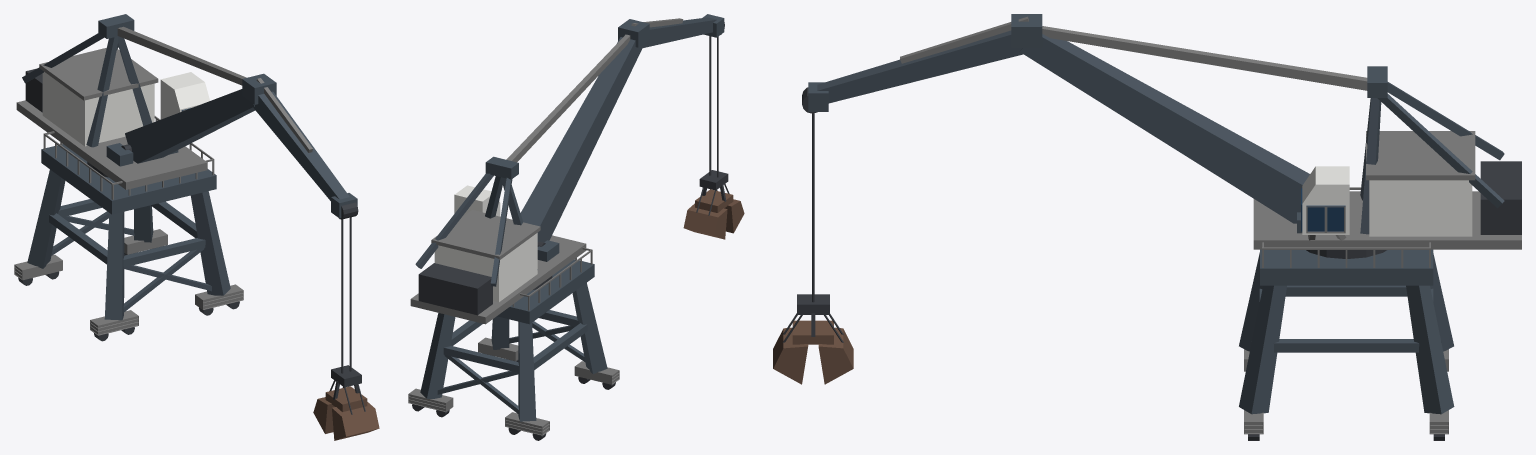
File: port_crane_close.fbx
3 renders of one model, left to right at view 1: azimuth 30°, elevation 25°; view 2: azimuth 150°, elevation 25°; view 3: azimuth 270°, elevation 25°, orthographic. The views are drawn at different scales.
Parts seen in each view (by area): view 1: a401.PortCrane.001; view 2: a401.PortCrane.001; view 3: a401.PortCrane.001.
Part boxes in pixels (x1=…): a401.PortCrane.001: x1=14, y1=14, x2=379, y2=440; a401.PortCrane.001: x1=408, y1=14, x2=744, y2=440; a401.PortCrane.001: x1=773, y1=14, x2=1521, y2=440.
Size of the model in its own units: 8 by 16.4 by 29.04.
